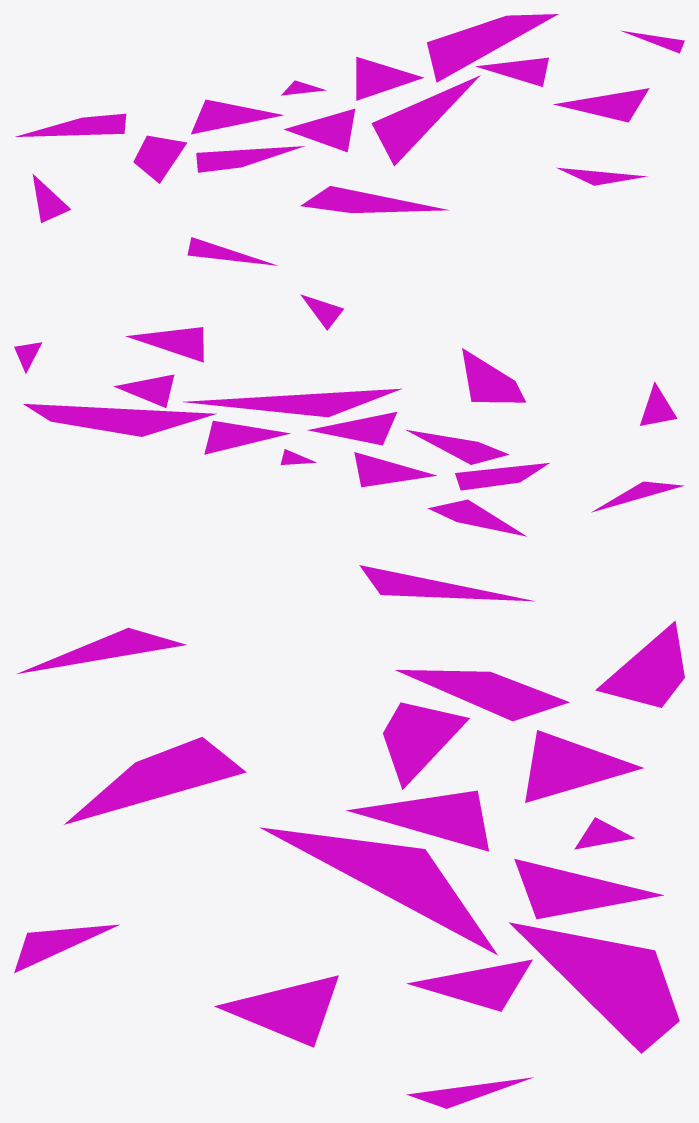
File: TerrariumBrokenGlas.fbx
3 views of the same model, one above another, from view 1: azimuth 30°, elevation 25°; view 2: azimuth 150°, elevation 25°; view 3: azimuth 270°, elevation 25° (orthographic). The views are drawn at different scales.
Visible parts, largest first — view 1: Terrarium centerGlas; view 2: Terrarium centerGlas; view 3: Terrarium centerGlas.
Part boxes in pixels (<box>): Terrarium centerGlas: <box>15,14,684,265</box>; Terrarium centerGlas: <box>14,294,684,536</box>; Terrarium centerGlas: <box>14,565,684,1108</box>.
Bounding box in the file's own units: 413 × 0.1281 × 215.
